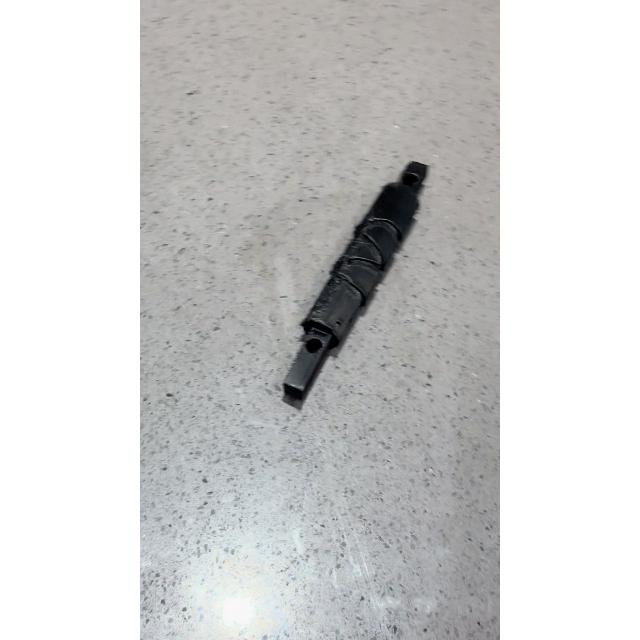Pieza_1: (274, 124, 442, 432)
